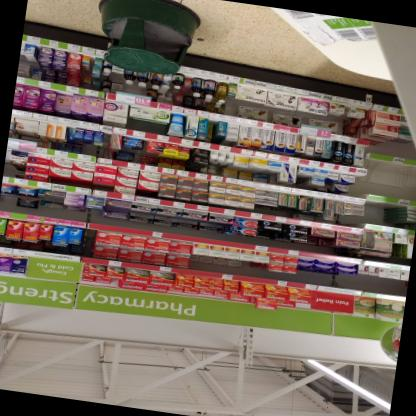empty_space: (366, 159, 407, 198), (383, 203, 408, 229), (364, 200, 386, 225), (405, 164, 416, 201)
